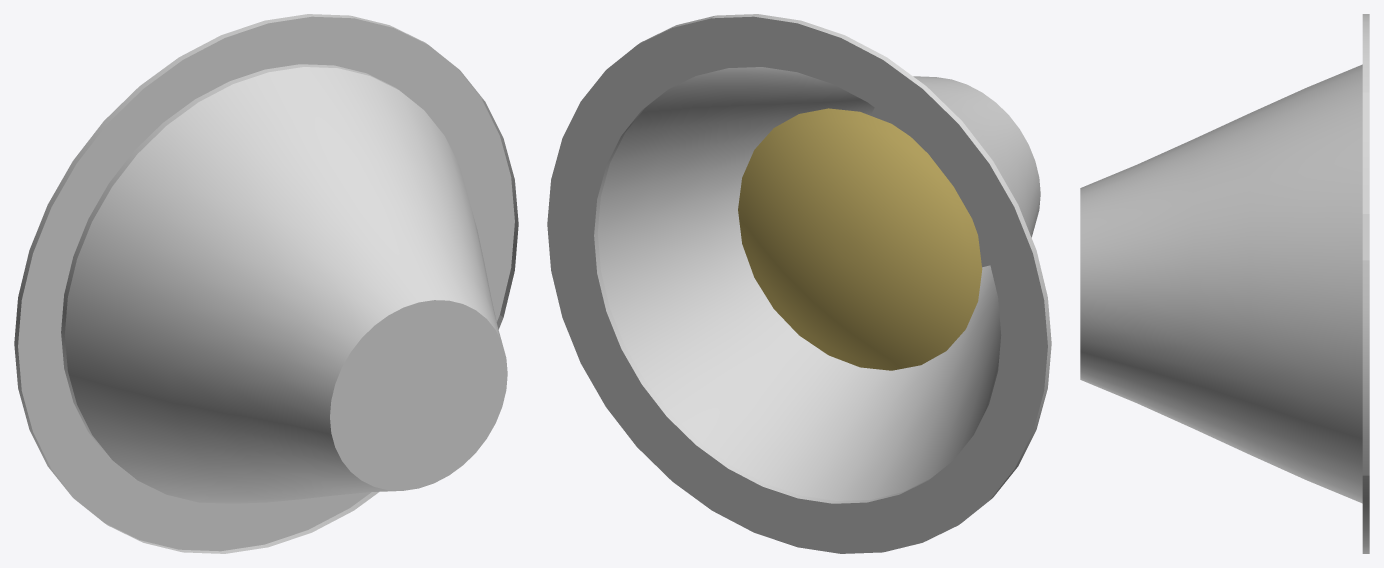
Rendered from lighting_fixture_-_3d_recessed_light.fbx.
3 views of the same model, side by side, from view 1: azimuth 30°, elevation 25°; view 2: azimuth 150°, elevation 25°; view 3: azimuth 270°, elevation 25° (orthographic). The views are drawn at different scales.
Parts seen in each view (by area): view 1: Canlight_0; view 2: Canlight_0; view 3: Canlight_0.
Part boxes in pixels (x1,y1,x2,y2): Canlight_0: (14,14,518,553); Canlight_0: (547,14,1051,553); Canlight_0: (1080,14,1369,553).
Bounding box in the file's own units: 0.0748 × 0.0748 × 0.0399.
